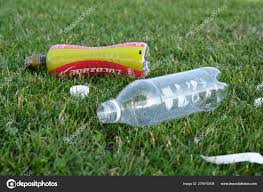plastic_bottle: (96, 66, 227, 132), (23, 41, 155, 80)
